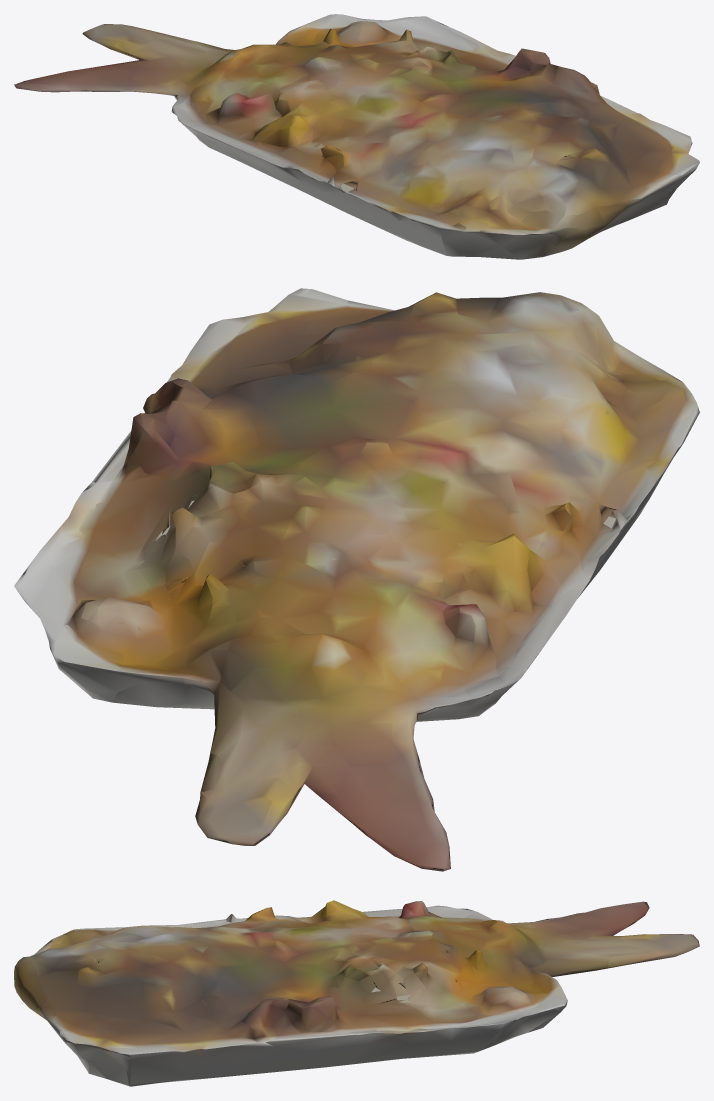
File: 0005_mask_006_braised_whole_fish.glb
3 views of the same model, one above another, from view 1: azimuth 30°, elevation 25°; view 2: azimuth 150°, elevation 25°; view 3: azimuth 270°, elevation 25° (orthographic). The views are drawn at different scales.
Visible parts, largest first — view 1: mask_006_object; view 2: mask_006_object; view 3: mask_006_object.
Part boxes in pixels (x1,y1,x2,y2): mask_006_object: [14, 14, 699, 259]; mask_006_object: [14, 288, 699, 871]; mask_006_object: [14, 900, 699, 1086].
Bounding box in the file's own units: 0.4972 × 0.0887 × 0.7397.
